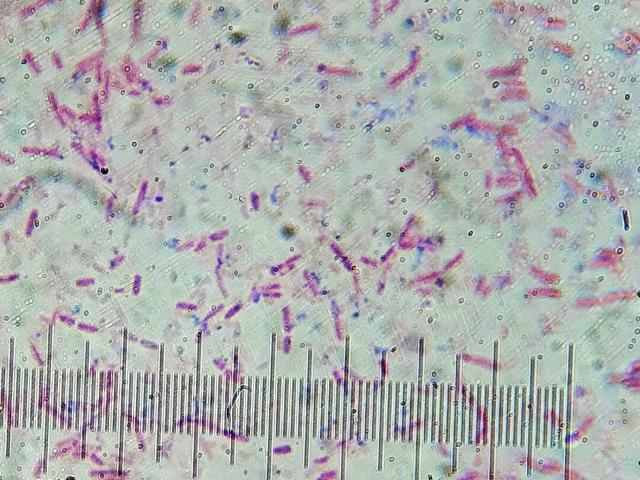E. coli: (458, 347, 506, 374), (124, 326, 159, 354), (319, 57, 365, 78), (563, 421, 600, 447), (392, 52, 420, 82), (327, 243, 356, 270), (19, 143, 65, 160), (89, 462, 132, 480), (21, 209, 44, 242), (491, 60, 533, 78), (19, 42, 40, 74), (131, 177, 148, 216), (91, 93, 107, 134), (530, 283, 560, 304), (19, 3, 56, 20), (440, 250, 469, 271), (46, 405, 72, 428), (492, 189, 523, 208), (44, 94, 65, 122), (130, 3, 145, 40), (268, 259, 304, 274), (295, 157, 314, 183), (529, 266, 556, 284), (178, 63, 207, 78), (27, 342, 45, 366), (330, 316, 347, 341), (129, 275, 147, 298), (292, 20, 321, 34), (224, 298, 244, 318), (2, 265, 20, 287), (576, 296, 602, 310), (177, 297, 198, 314), (272, 443, 290, 461), (278, 305, 292, 328), (79, 446, 99, 462), (381, 243, 396, 264), (75, 275, 95, 290), (32, 455, 49, 472), (312, 453, 332, 467), (110, 254, 128, 269), (513, 145, 527, 164), (77, 320, 97, 333), (211, 229, 230, 242), (281, 334, 294, 351), (96, 63, 106, 83)
